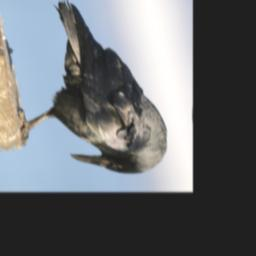Crow: (0, 0, 178, 182)
